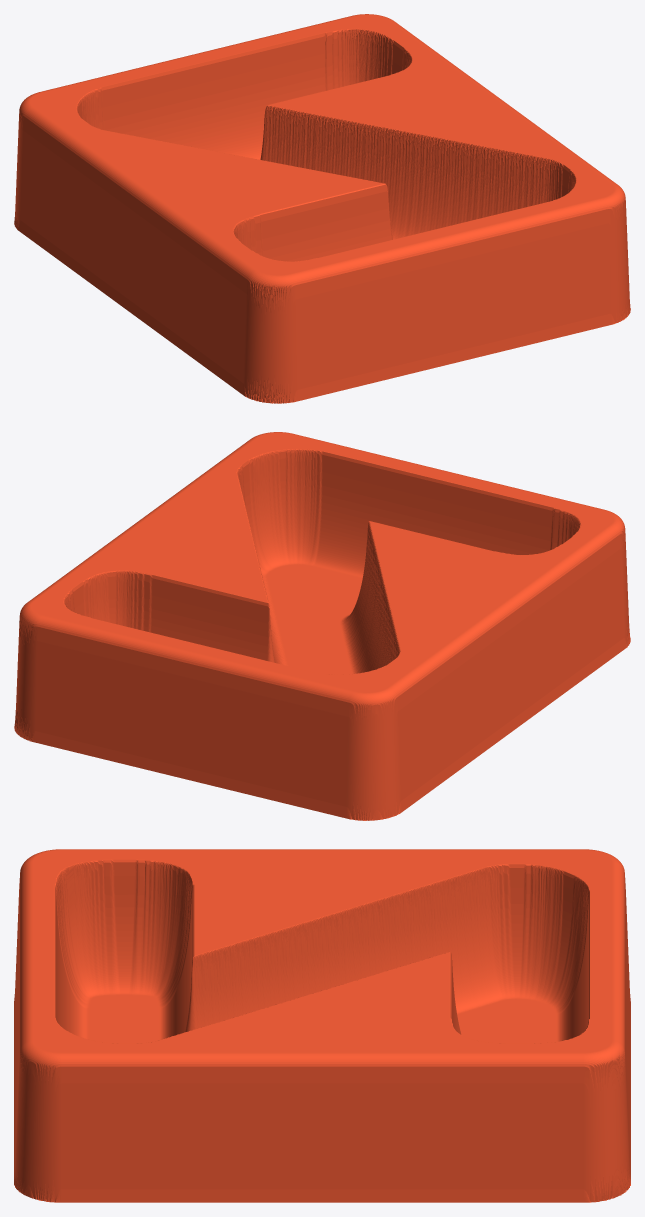
File: mold.glb
3 views of the same model, one above another, from view 1: azimuth 30°, elevation 25°; view 2: azimuth 150°, elevation 25°; view 3: azimuth 270°, elevation 25° (orthographic). The views are drawn at different scales.
Parts seen in each view (by area): view 1: geometry_0; view 2: geometry_0; view 3: geometry_0.
Boxes of the visible parts, <box> form: geometry_0: <box>14,14,630,403</box>; geometry_0: <box>14,432,630,820</box>; geometry_0: <box>14,849,630,1202</box>.
Bounding box in the file's own units: 0.0986 × 0.0299 × 0.1178.
